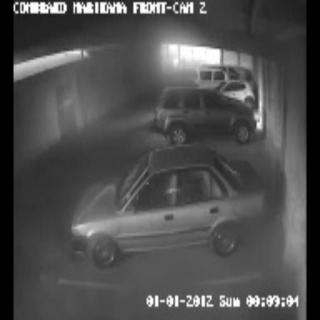car: (72, 146, 267, 268), (156, 86, 256, 147), (192, 67, 242, 93), (217, 77, 255, 107)
